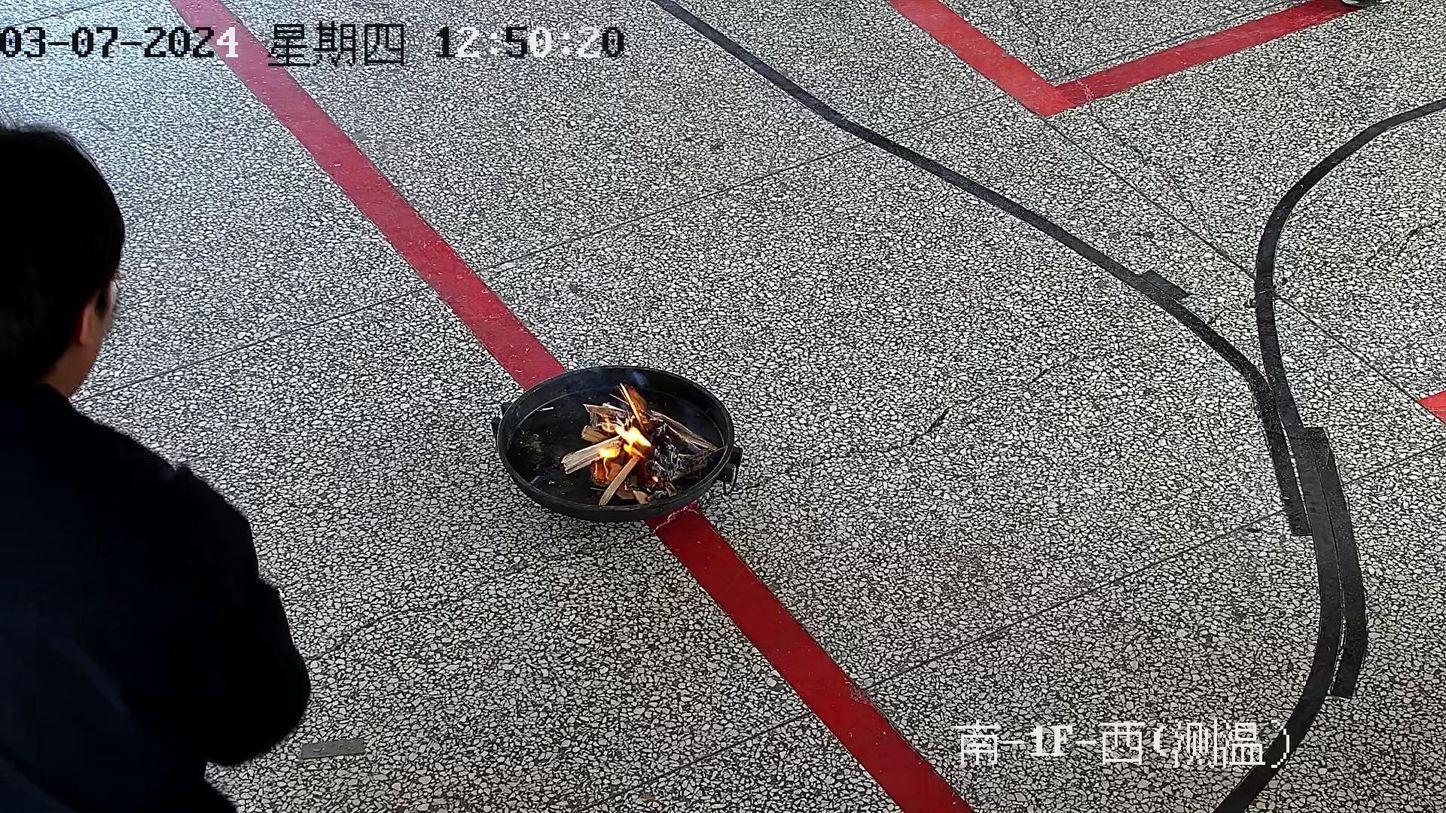fire: (609, 420, 652, 465)
